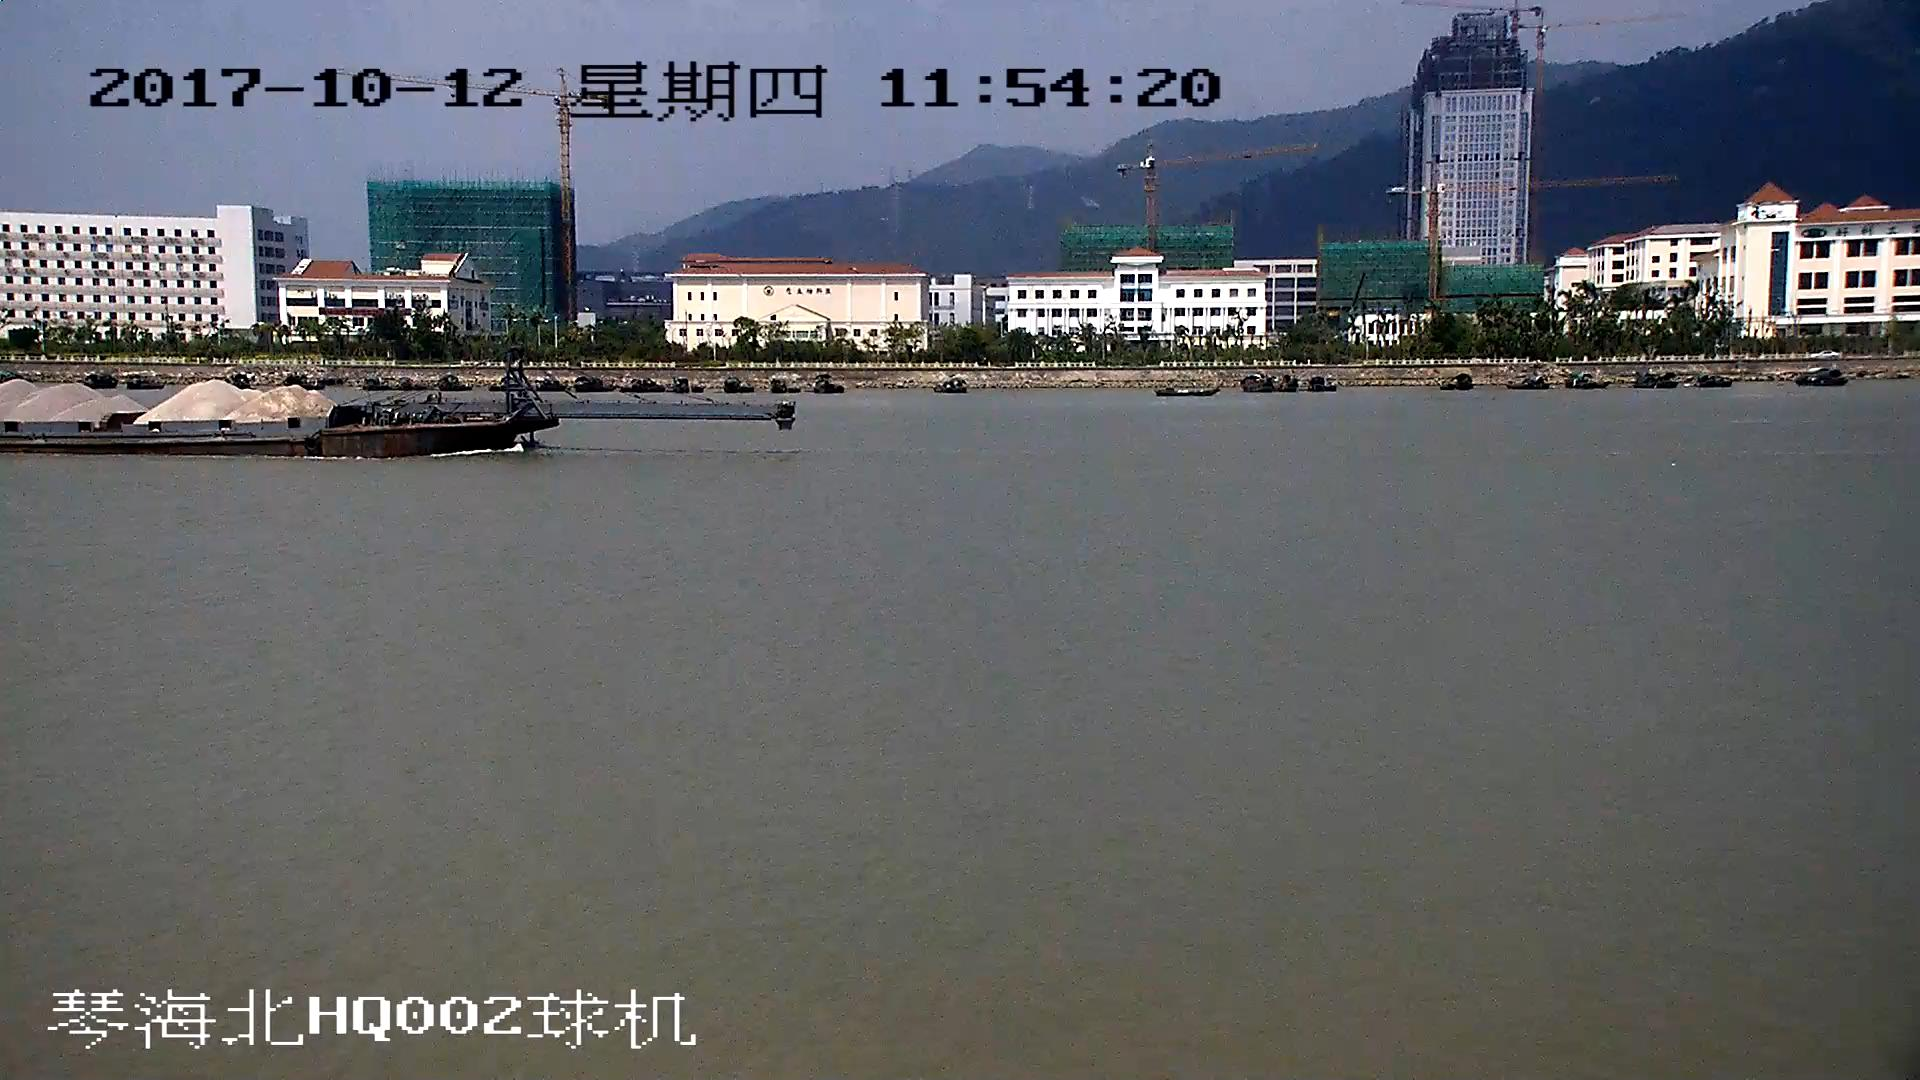ore carrier: (1, 333, 794, 453)
